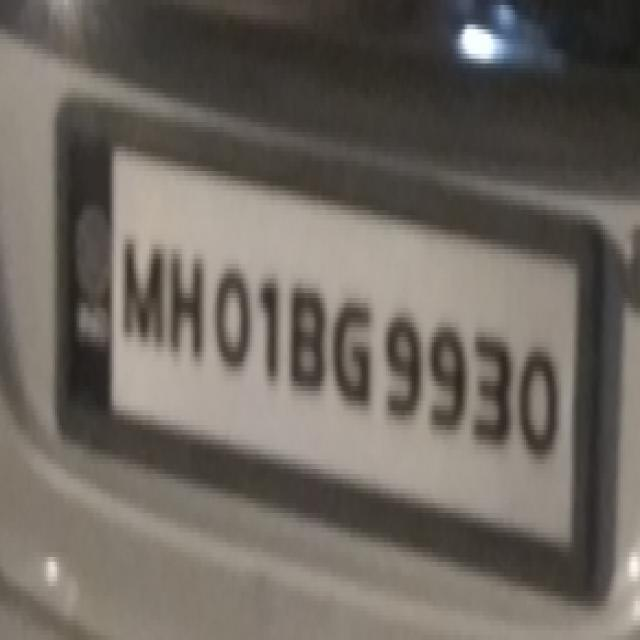0: (519, 331, 559, 466), (214, 262, 254, 382)
1: (259, 268, 286, 390)
3: (473, 325, 516, 455)
9: (428, 310, 470, 450), (383, 296, 423, 426)
B: (290, 277, 327, 398)
G: (332, 290, 374, 410)
H: (169, 238, 206, 359)
M: (120, 227, 164, 355)
